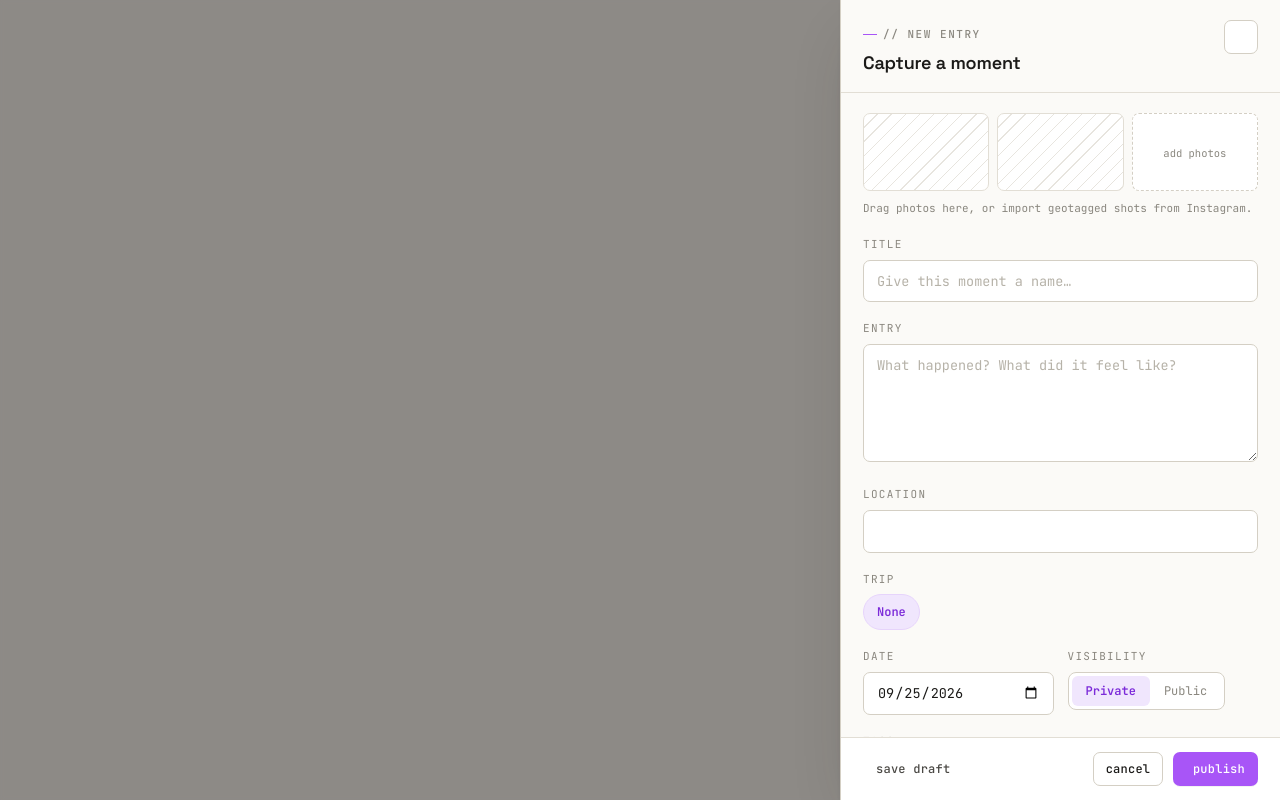
Test: AppNewEntry › blocks publish and shows an error when the date field is cleared
Clear the date field: (958, 693) [863,672,1054,715]
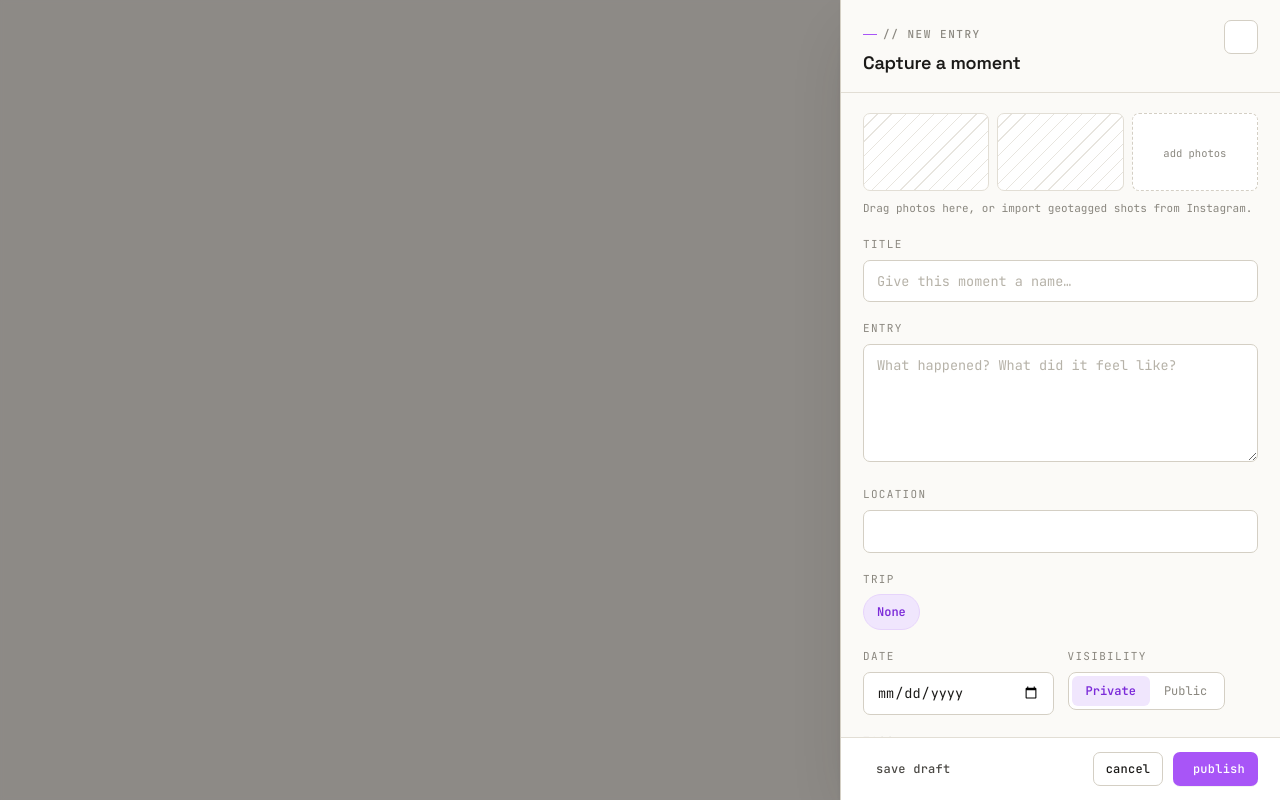
Click the button with class "btn--primary": (1216, 769) [1173,752,1258,786]
(page scrolled)
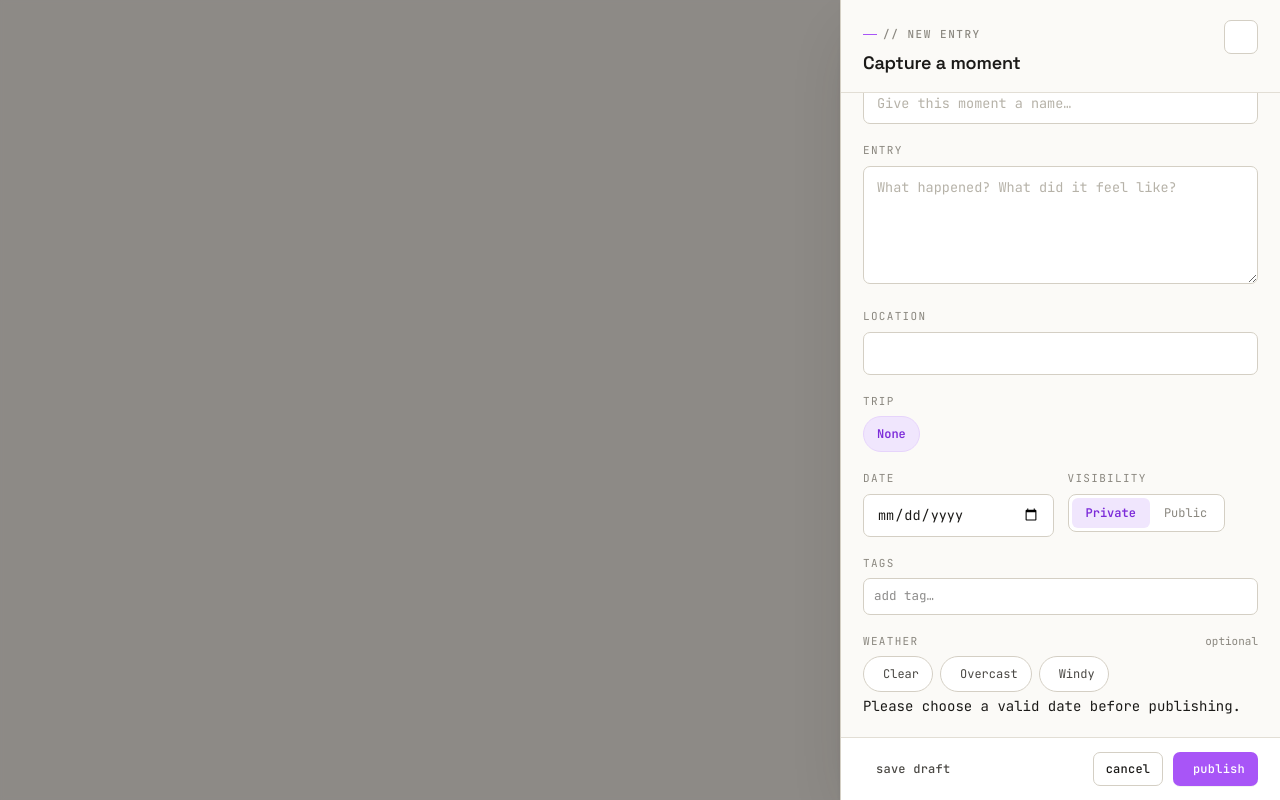
Result: the text with test id "publish-error" shows "valid date" at [863,697,1241,715]
